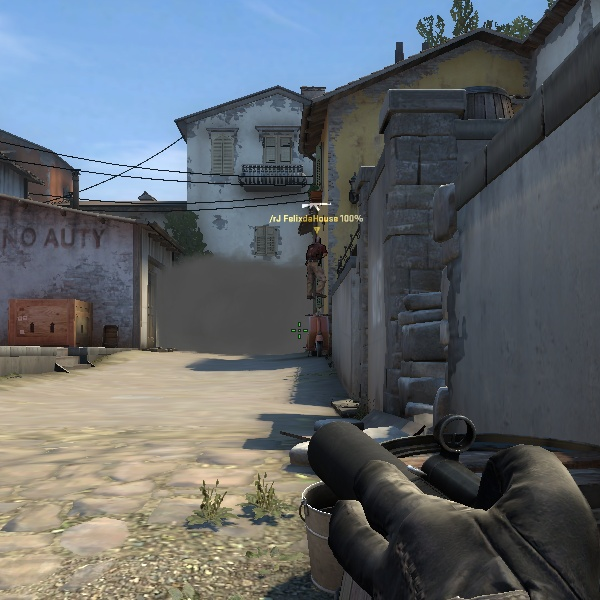t_body: (286, 234, 345, 363)
